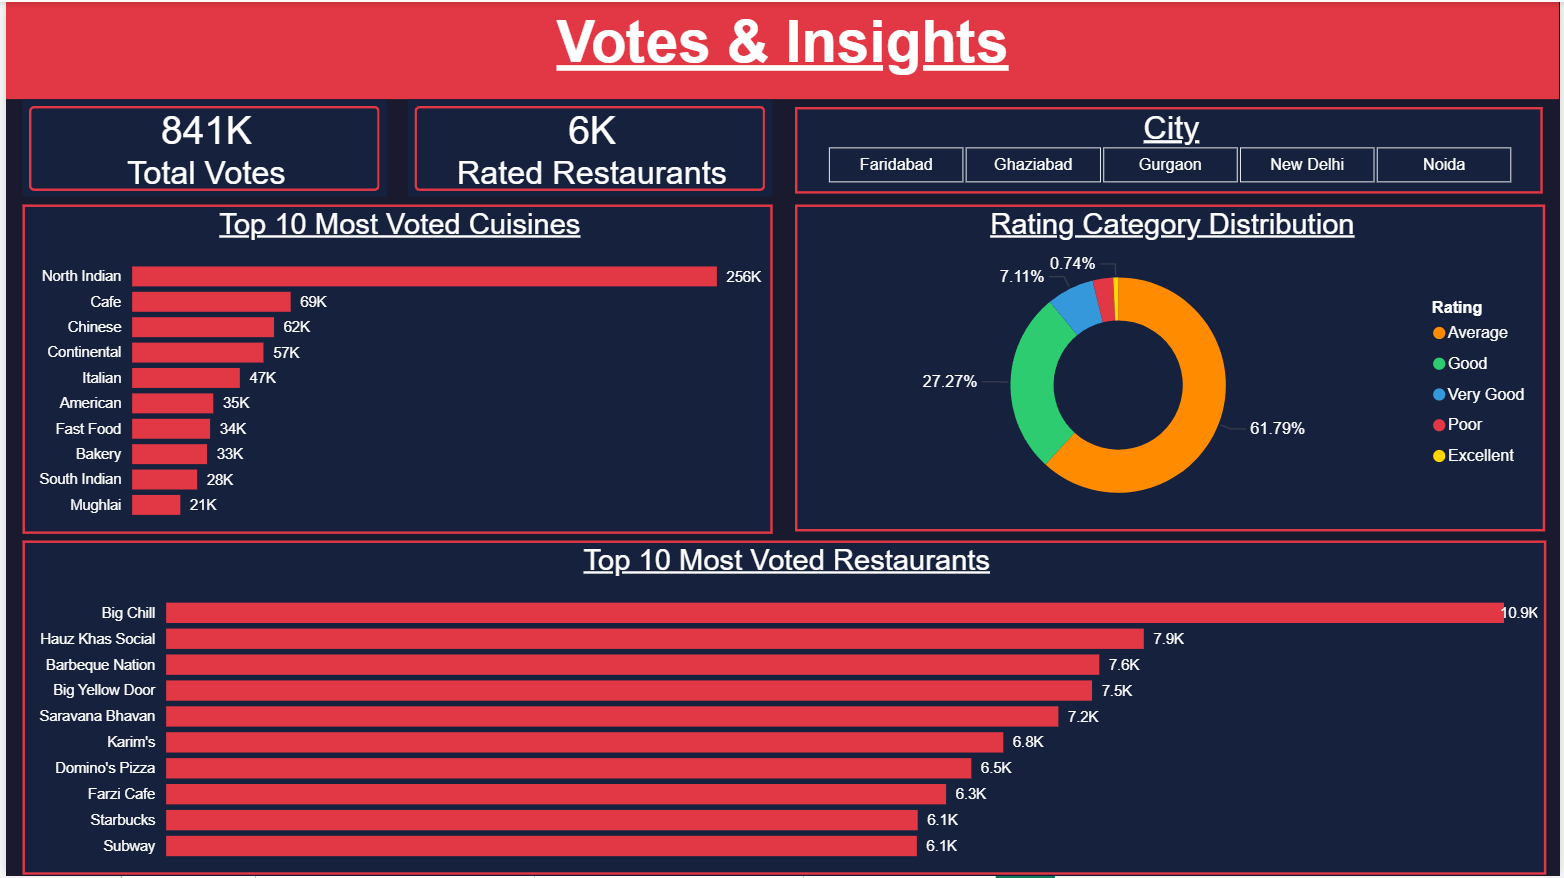

What the dashboard file says about the page in this screenshot:
{"tool":"powerbi","page":{"name":"Votes & Insights","canvas":[1280,720],"ordinal":3},"visuals":[{"type":"barChart","title":"Top 10 Most Voted Restaurants","fields":{"Category":["zomato_delhi_rated.restaurant_name"],"Y":["Measure.Total Votes"]},"box":[13.6,443.7,1255.3,275.6],"z":0},{"type":"barChart","title":"Top 10 Most Voted Cuisines","fields":{"Category":["zomato_delhi_rated.primary_cuisine"],"Y":["Measure.Total Votes"]},"box":[13.6,166.6,617.8,271],"z":1000},{"type":"donutChart","title":"Rating Category Distribution","fields":{"Category":["zomato_delhi_rated.rating_text"],"Y":["Measure.Total Restaurants"]},"box":[649.6,166.6,617.8,269.5],"z":2000},{"type":"textbox","box":[0,0,1279.5,80.3],"z":3000},{"type":"cardVisual","fields":{"Data":["Measure.Rated Restaurants"]},"box":[331.6,80.3,299.8,80.3],"z":4000},{"type":"cardVisual","fields":{"Data":["Measure.Total Votes"]},"box":[13.6,80.3,299.8,80.3],"z":5000},{"type":"slicer","title":"City","fields":{"Values":["zomato_delhi_rated.city"]},"box":[649.6,86.3,616.3,71.2],"z":6000}]}

Visuals, with their boxes in screenshot pixels (x1, y1, x2, y2), scaled from the page's 1280x720 canvas onto the 1564x878 screenshot:
"Top 10 Most Voted Restaurants" barChart: (17,541,1550,877)
"Top 10 Most Voted Cuisines" barChart: (17,203,771,534)
"Rating Category Distribution" donutChart: (794,203,1549,532)
textbox: (0,0,1563,98)
cardVisual - Measure.Rated Restaurants: (405,98,771,196)
cardVisual - Measure.Total Votes: (17,98,383,196)
"City" slicer: (794,105,1547,192)
